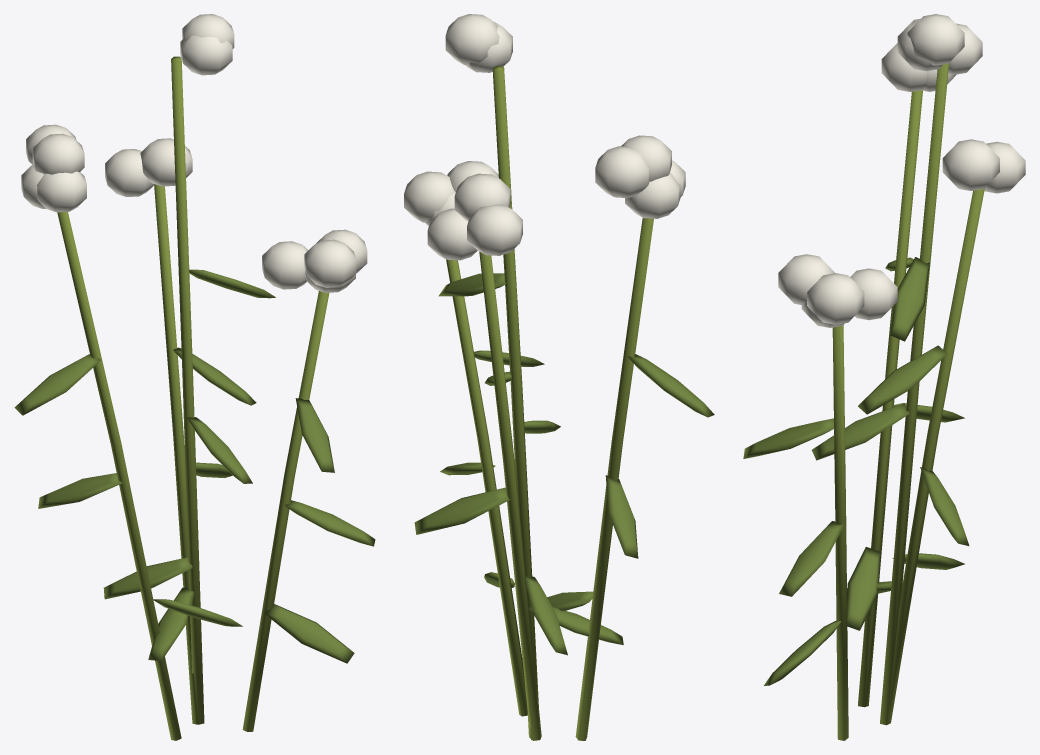
The model's file is weed_yarrow.fbx.
The picture shows the model from 3 angles, left to right: view 1: azimuth 30°, elevation 25°; view 2: azimuth 150°, elevation 25°; view 3: azimuth 270°, elevation 25°; orthographic projection. The views are drawn at different scales.
Parts seen in each view (by area): view 1: weed_yarrow; view 2: weed_yarrow; view 3: weed_yarrow.
Boxes of the visible parts, x1=… form: weed_yarrow: x1=14, y1=14, x2=375, y2=740; weed_yarrow: x1=404, y1=14, x2=714, y2=740; weed_yarrow: x1=743, y1=14, x2=1025, y2=740.
Size of the model in its own units: 0.3847 by 0.7947 by 0.281.
